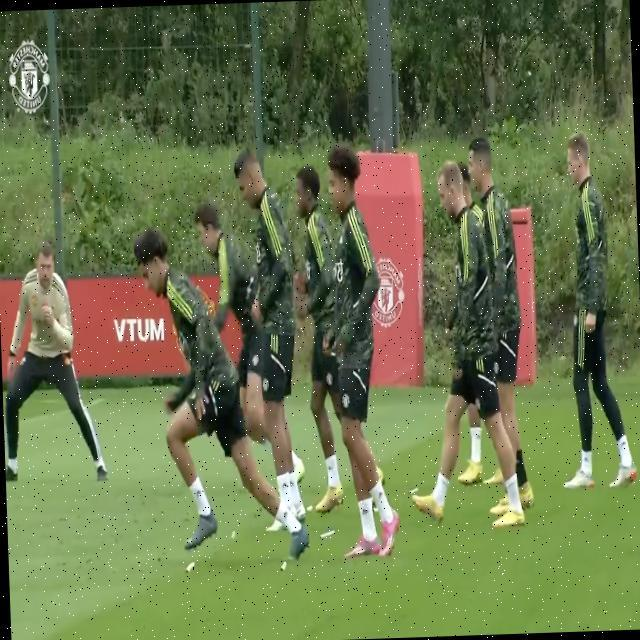Adidas: (193, 484, 204, 500), (375, 487, 384, 503), (360, 504, 369, 518), (280, 478, 289, 491)
